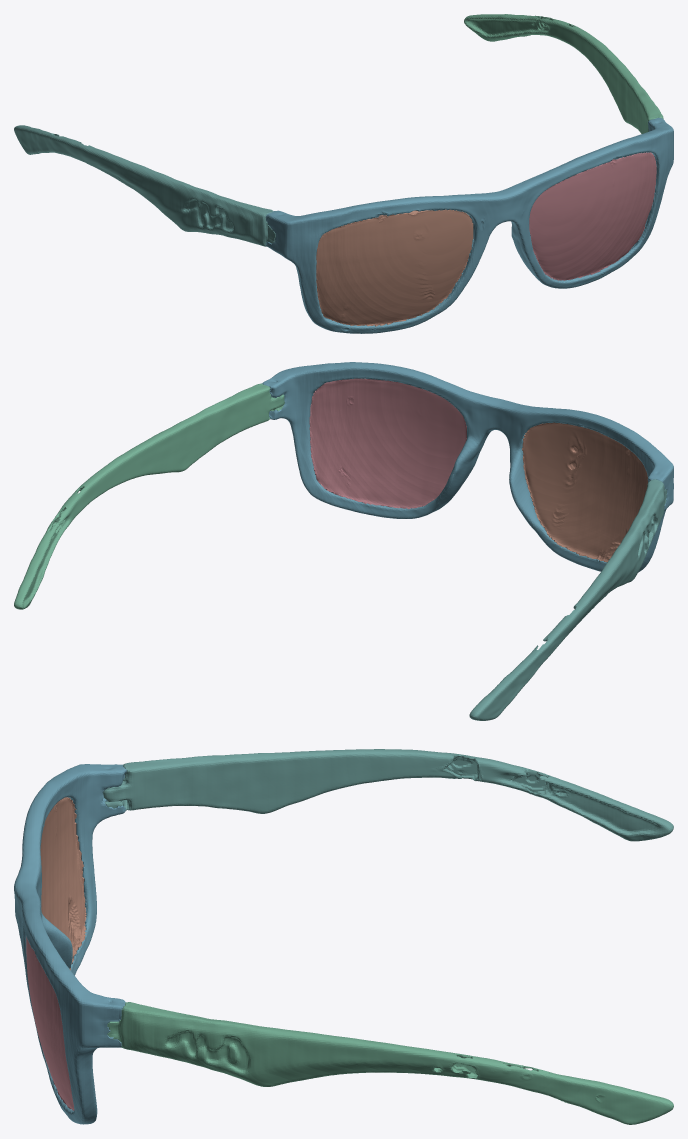
3 views of the same model, one above another, from view 1: azimuth 30°, elevation 25°; view 2: azimuth 150°, elevation 25°; view 3: azimuth 270°, elevation 25° (orthographic). The views are drawn at different scales.
Visible parts, largest first — view 1: p00, p01, p03, p02, p04; view 2: p00, p03, p01, p04, p02; view 3: p02, p04, p00, p01, p03.
Part boxes in pixels (x1,y1,x2,y2): p00: [265, 117, 673, 333]; p01: [316, 209, 473, 326]; p03: [529, 152, 656, 280]; p02: [14, 125, 275, 246]; p04: [464, 14, 663, 133]; p00: [261, 362, 673, 572]; p03: [309, 378, 466, 508]; p01: [522, 422, 647, 562]; p04: [14, 383, 284, 609]; p02: [469, 479, 666, 720]; p02: [103, 749, 673, 841]; p04: [107, 1002, 673, 1124]; p00: [14, 764, 126, 1124]; p01: [40, 797, 86, 970]; p03: [26, 937, 74, 1110].
Size of the model in its own units: 1.91 by 0.5079 by 1.74.
